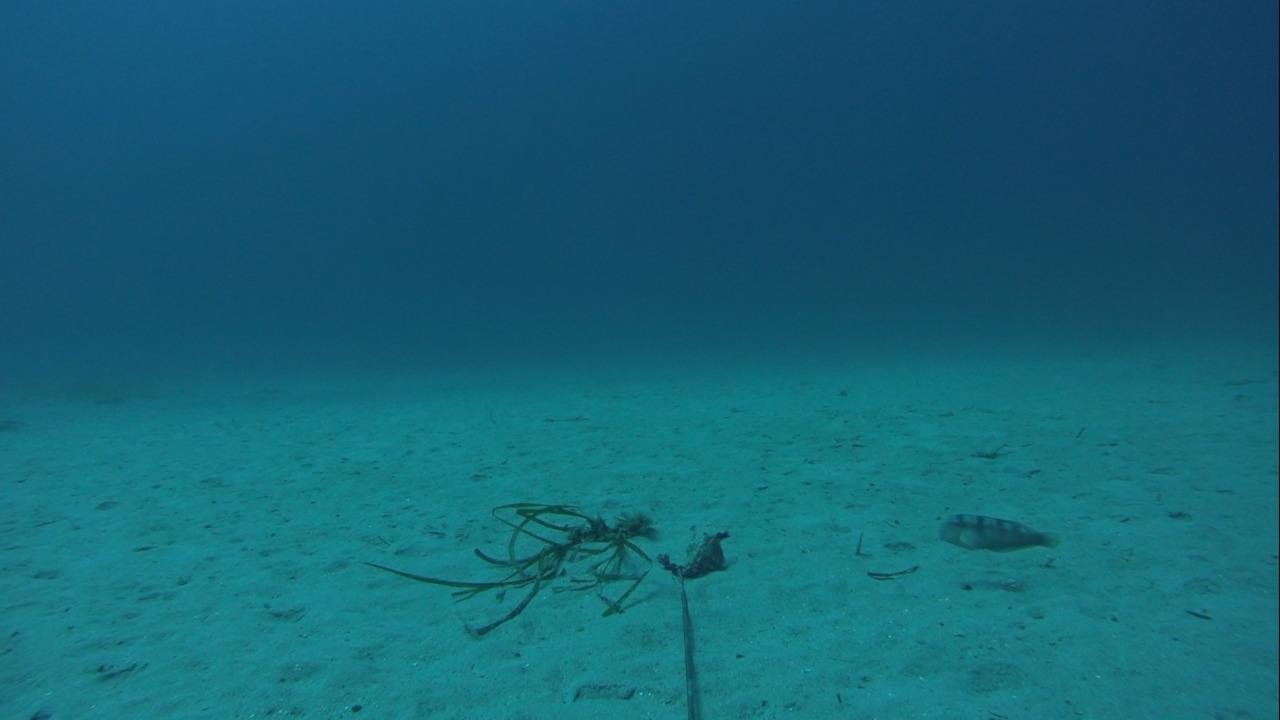raor: (930, 510, 1059, 556)
